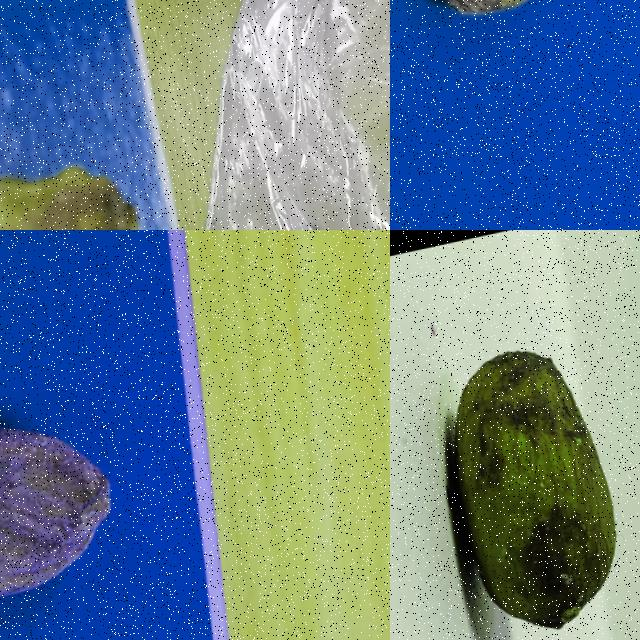Agglomerated_cocoabeans: (0, 278, 182, 639)
Fine_cocoabeans: (390, 267, 639, 639), (390, 0, 621, 95)
Flat_cocoabeans: (0, 86, 225, 229)
